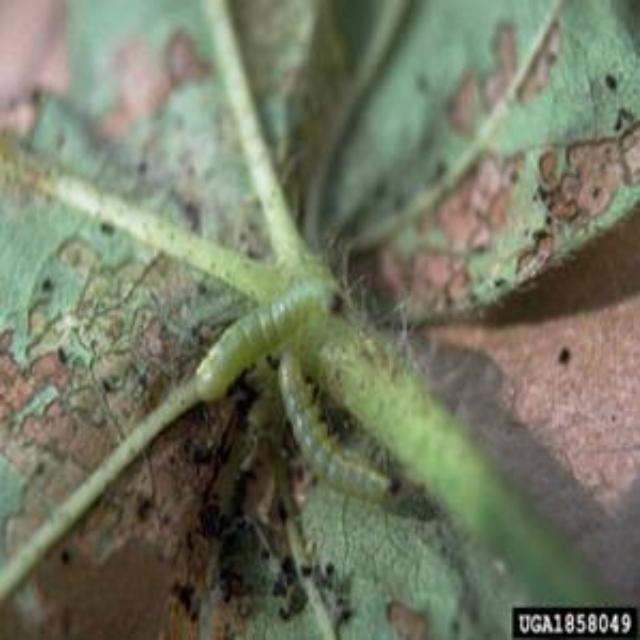Beet armyworm: (147, 260, 361, 406), (264, 356, 412, 520)
